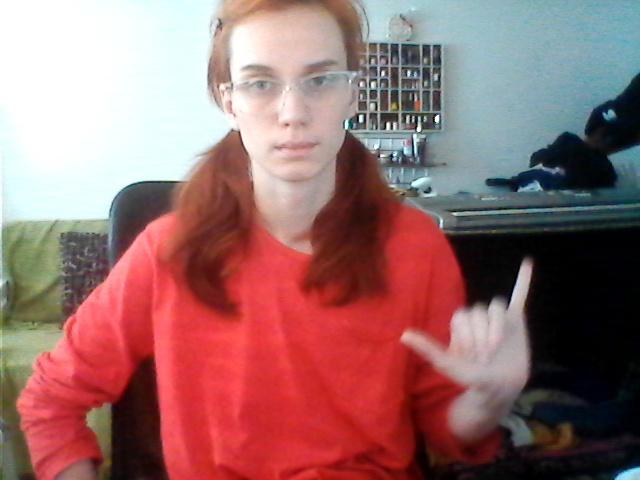kto: (396, 249, 550, 396)
